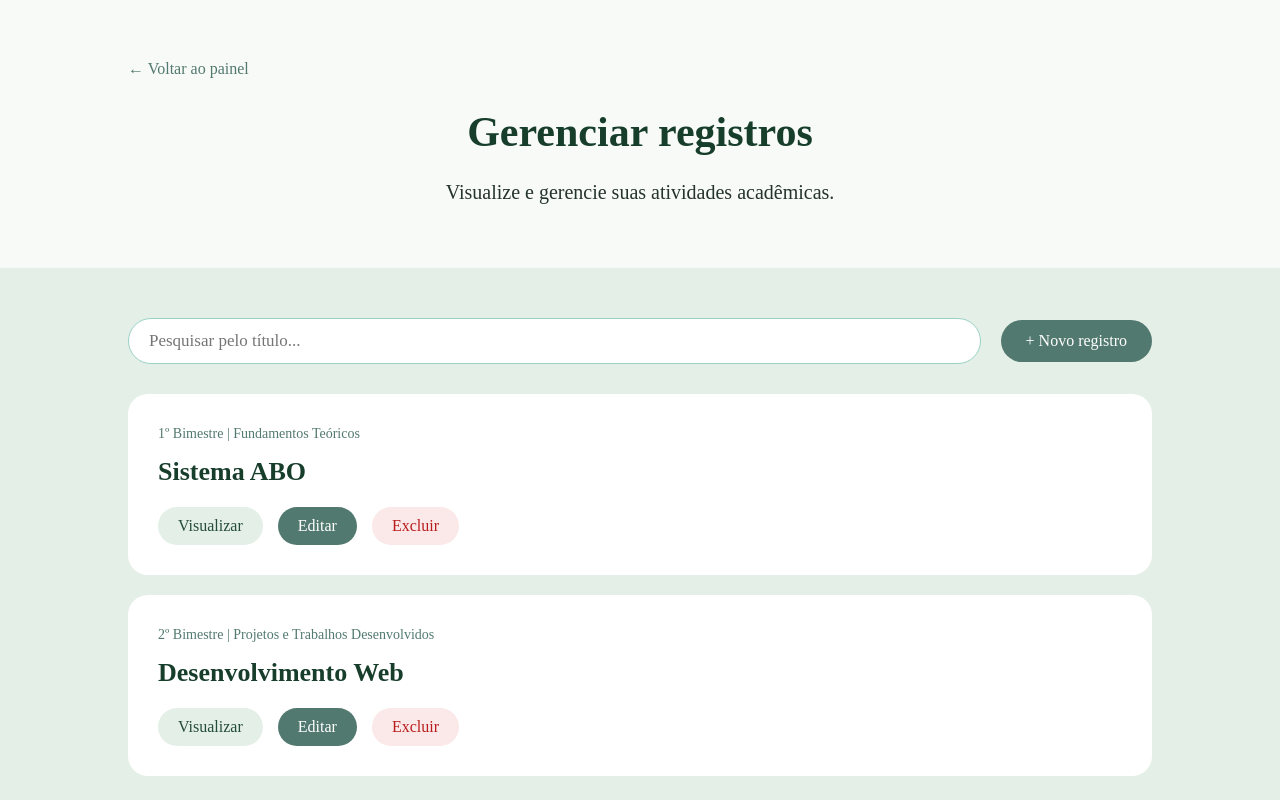
Test: Página GerenciarRegistros › Deve permitir pesquisar um registro
The width and height of the screenshot is (1280, 800).
Expected: the heading "Sistema ABO" is shown, left=158, top=457, right=306, bottom=486
Type "Sistema ABO" into the search field labelled "Pesquisar pelo título" at (554, 341), box left=128, top=318, right=980, bottom=364
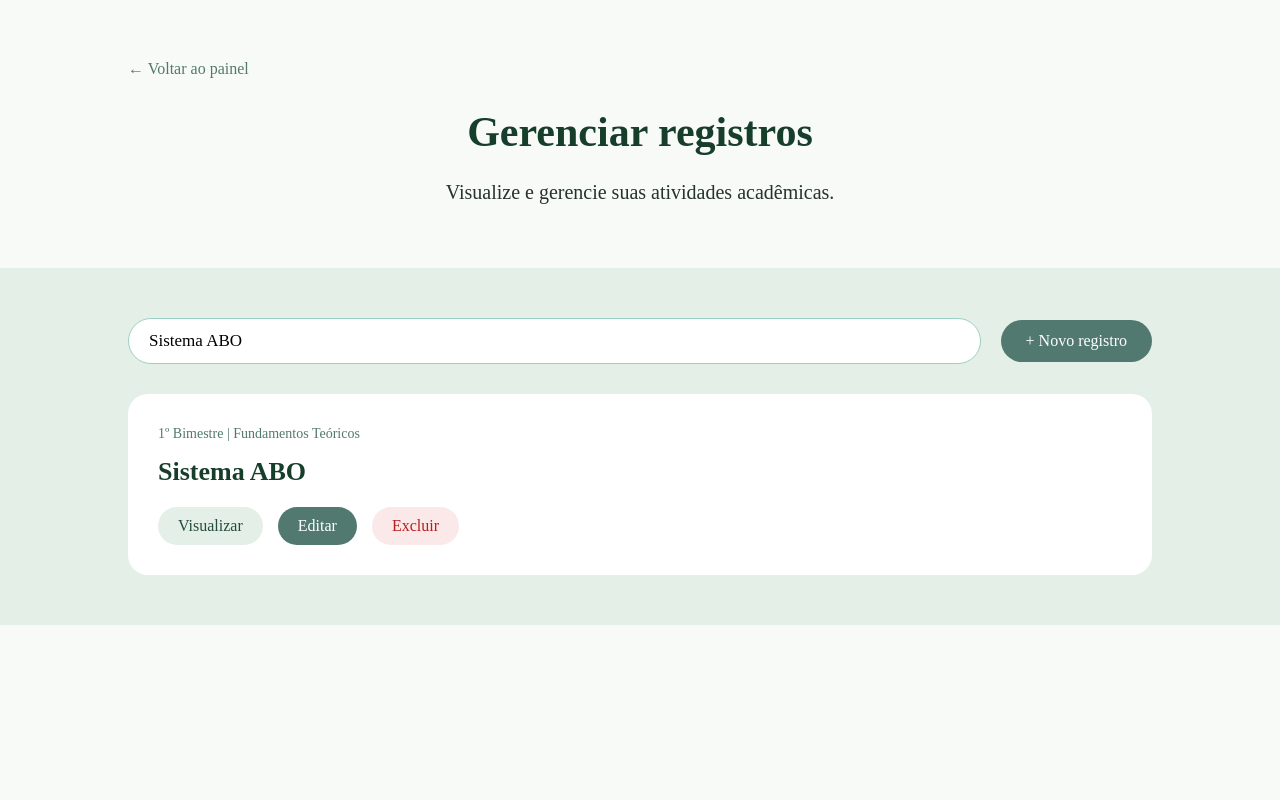
Expected: the heading "Sistema ABO" is shown, left=158, top=457, right=306, bottom=486
Now the heading "Desenvolvimento Web" is gone
